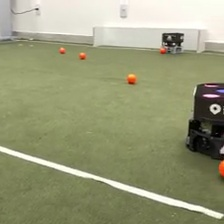ball: (125, 72, 137, 84), (78, 51, 86, 60), (58, 46, 66, 54), (159, 46, 166, 54)
goal: (92, 23, 207, 54)
robot: (183, 81, 224, 162), (159, 30, 185, 55)
